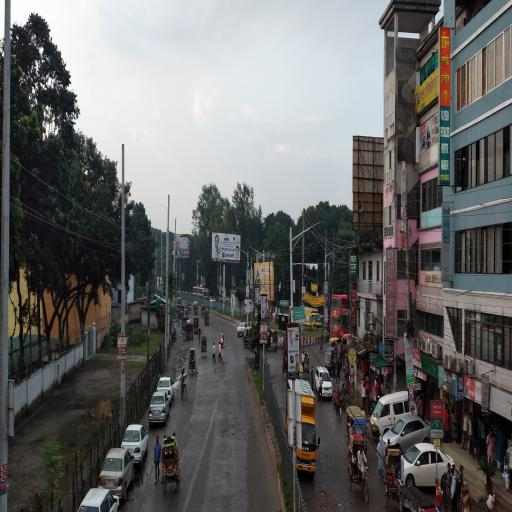auto rickshaw: (347, 408, 369, 456), (325, 349, 336, 372), (268, 330, 279, 352), (243, 329, 252, 347), (187, 324, 194, 340), (195, 318, 200, 334), (205, 312, 210, 326), (194, 303, 199, 315)
bicycle: (320, 341, 324, 354)
bus: (331, 294, 351, 340)
car: (402, 444, 456, 490), (99, 448, 135, 500), (383, 417, 433, 450), (122, 424, 149, 467), (79, 488, 120, 512), (150, 393, 170, 426), (316, 367, 334, 400), (158, 379, 175, 408), (238, 323, 247, 336)
motorbike: (339, 384, 346, 407), (344, 366, 348, 379), (221, 338, 225, 348)
pickup: (287, 380, 320, 477)
rickshaw: (349, 436, 370, 504), (385, 448, 402, 508), (163, 440, 181, 495), (303, 351, 311, 381), (190, 349, 197, 377), (283, 351, 288, 378), (202, 337, 208, 358), (183, 318, 187, 334), (202, 304, 206, 318)
truck: (305, 307, 322, 330)
van: (372, 390, 420, 437)
